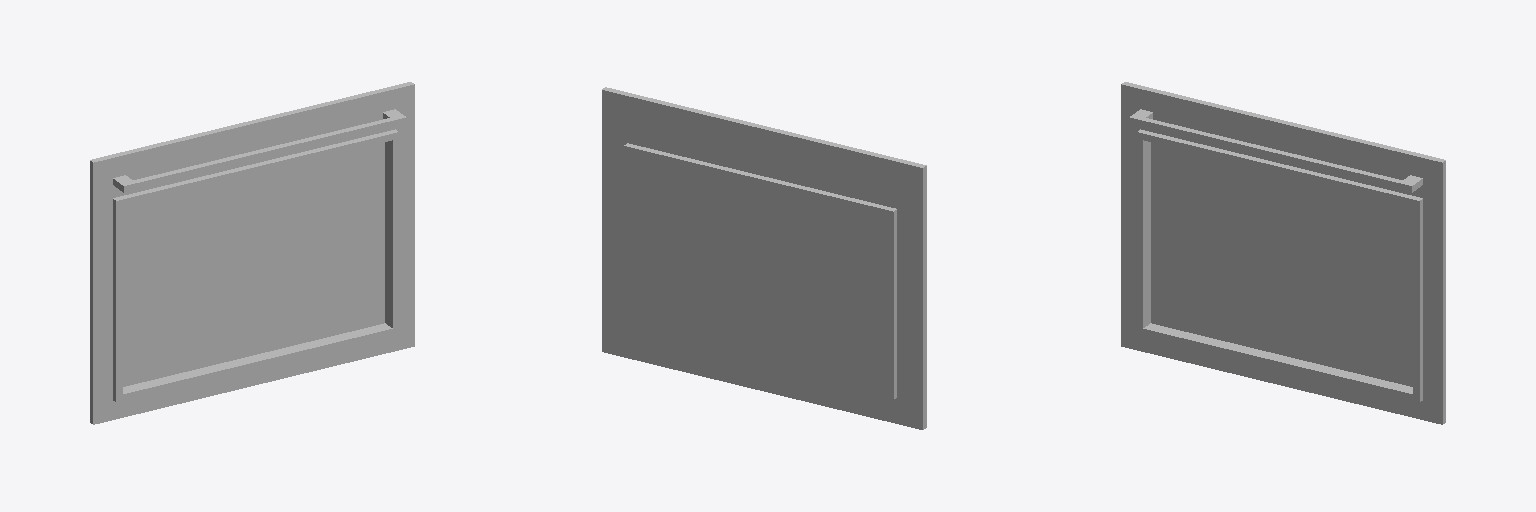
The model's file is KitchenOPEN_Export-35.obj.
3 renders of one model, left to right at view 1: azimuth 30°, elevation 25°; view 2: azimuth 150°, elevation 25°; view 3: azimuth 330°, elevation 25°, orthographic.
Visible parts, largest first — view 1: KitchenOPEN_Export-35; view 2: KitchenOPEN_Export-35; view 3: KitchenOPEN_Export-35.
Part boxes in pixels (x1,y1,x2,y2): KitchenOPEN_Export-35: (90,82,414,424); KitchenOPEN_Export-35: (602,87,926,429); KitchenOPEN_Export-35: (1121,82,1445,424).
Bounding box in the file's own units: 50 × 39 × 5.